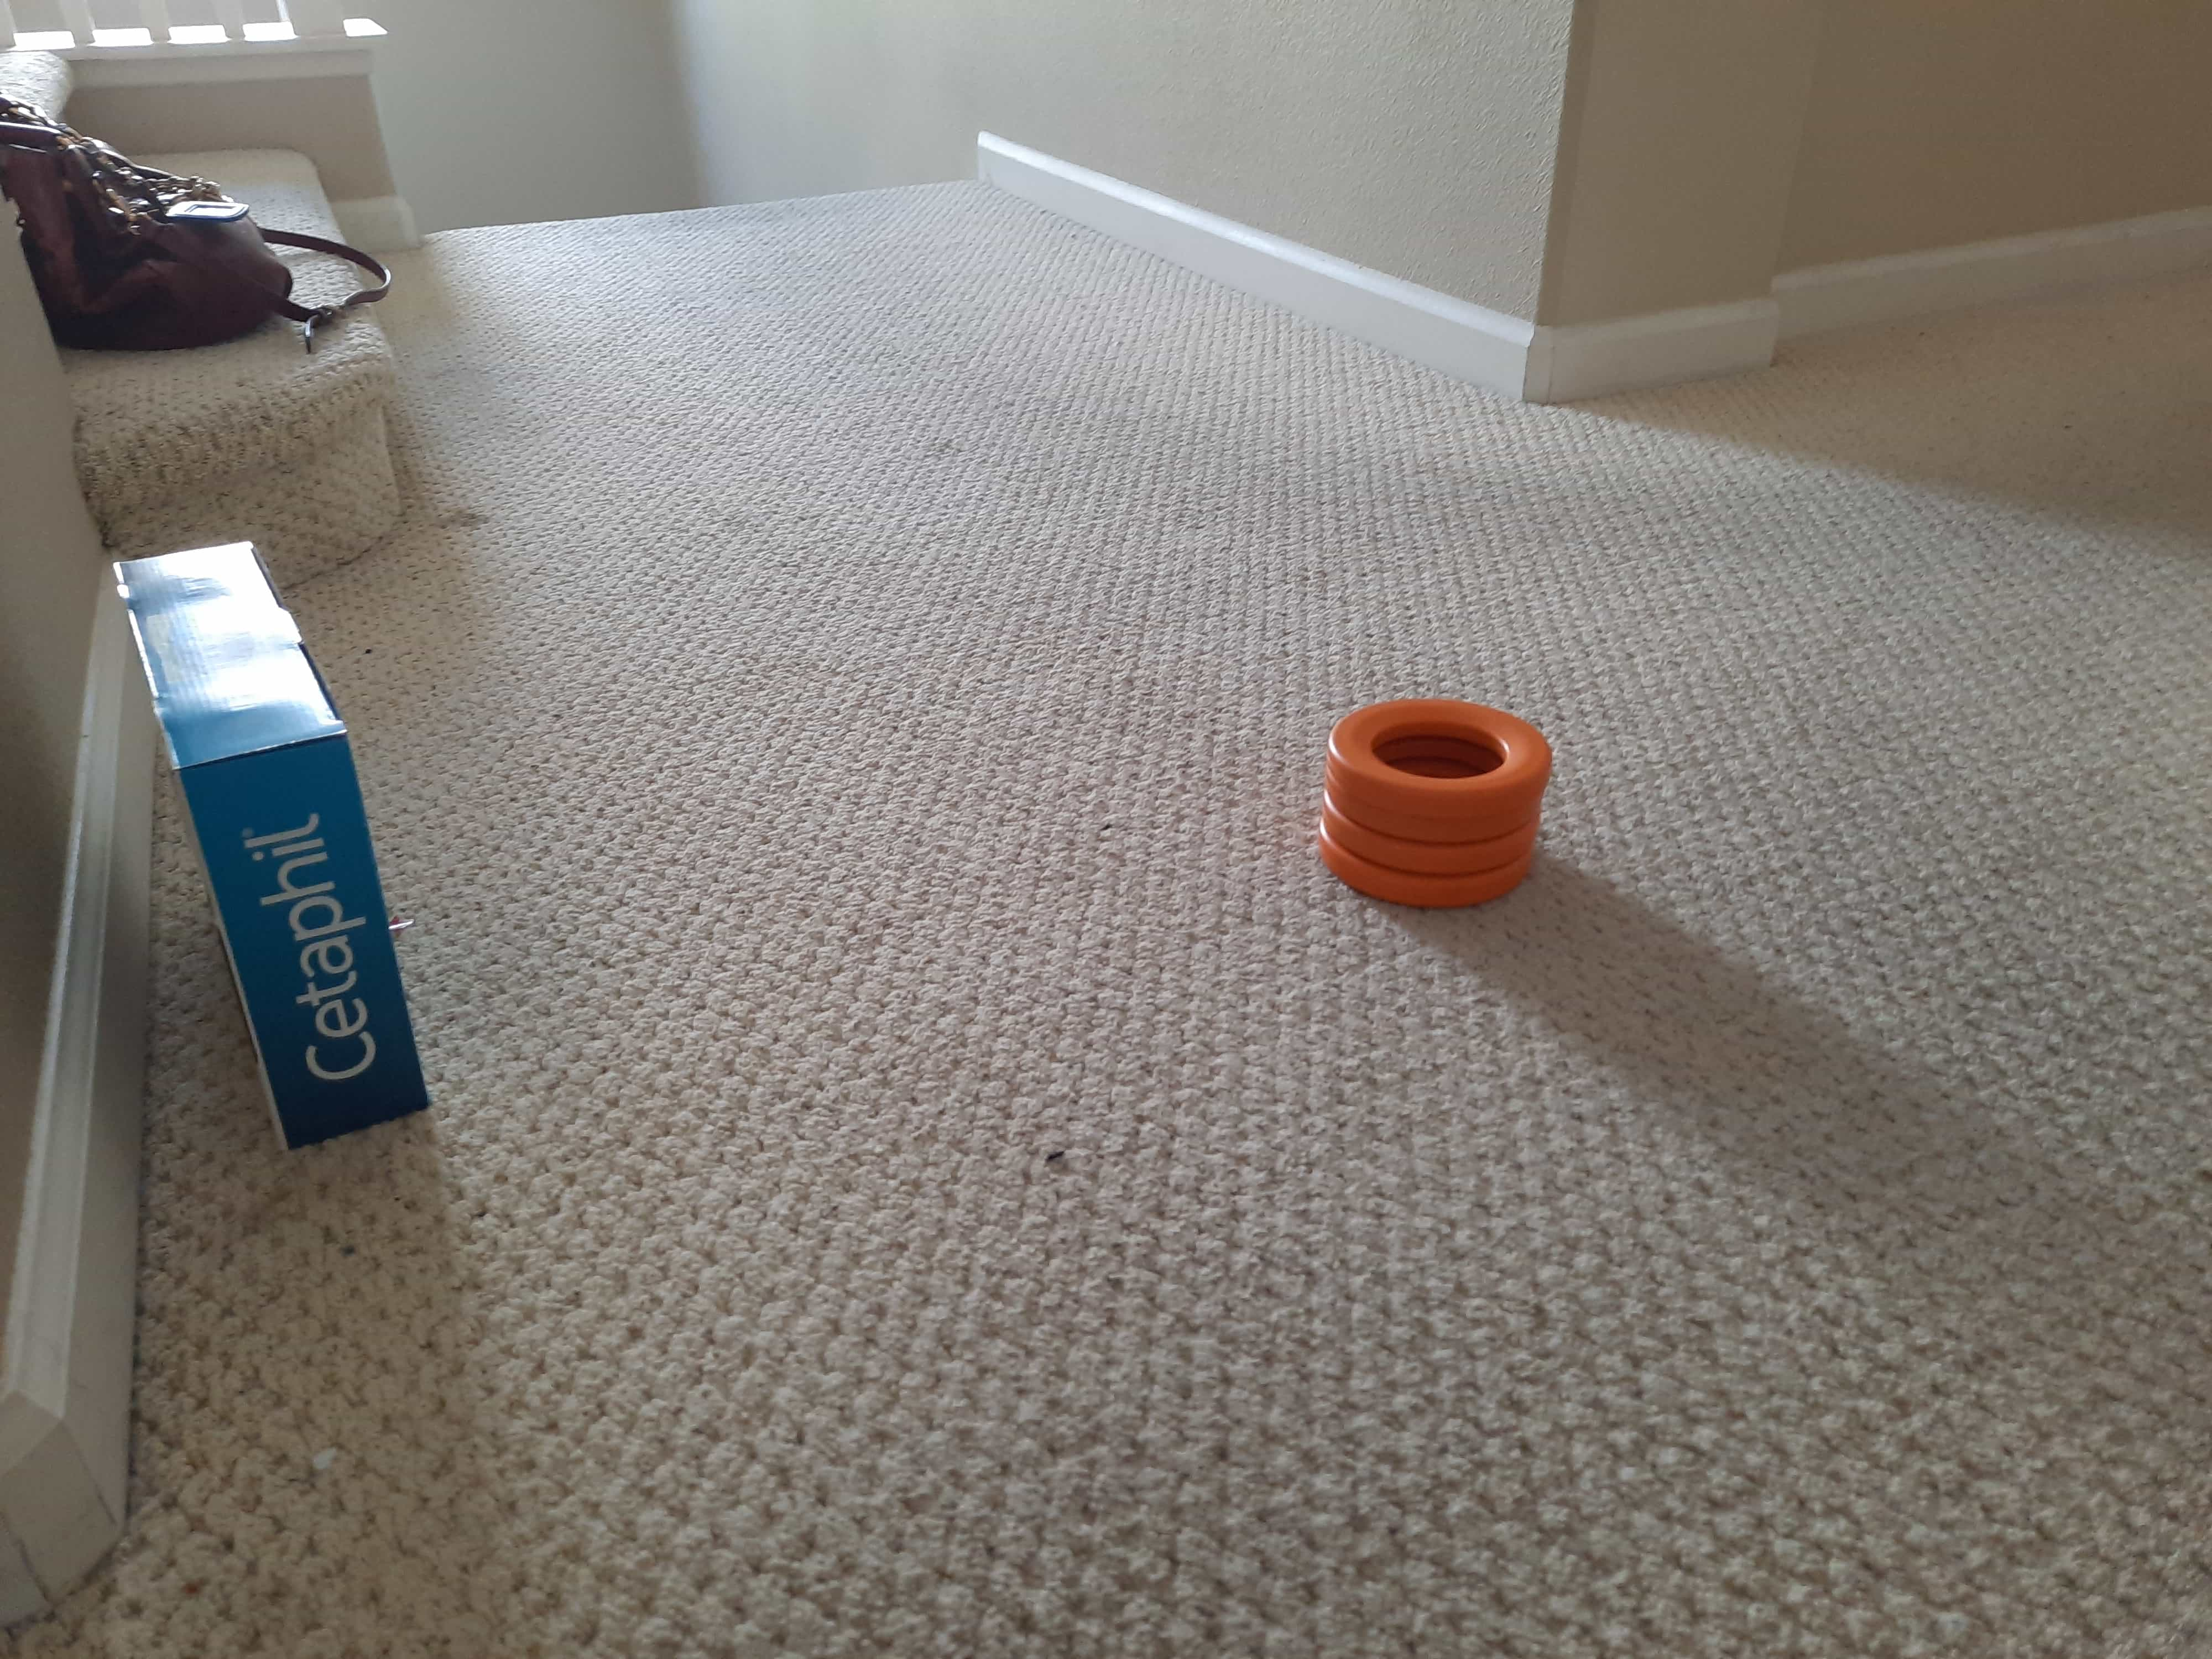FourStack: (1322, 702, 1547, 915)
